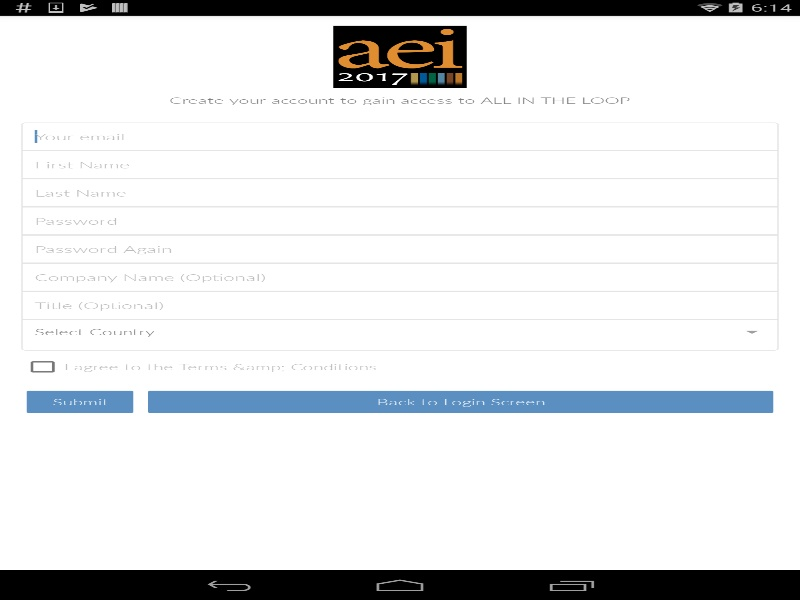Button: (142, 386, 778, 416), (21, 386, 138, 416)
Input: (21, 206, 778, 235), (21, 122, 778, 150), (21, 150, 778, 178), (21, 178, 778, 206), (21, 235, 778, 263), (21, 263, 778, 291), (21, 291, 778, 319)
